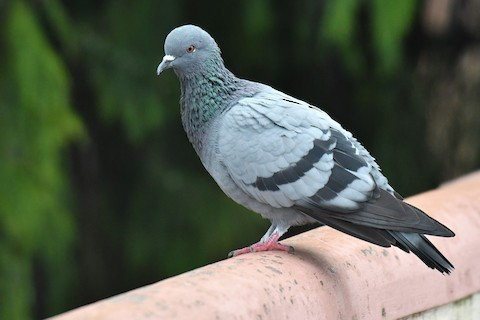pigeon: (152, 21, 460, 278)
